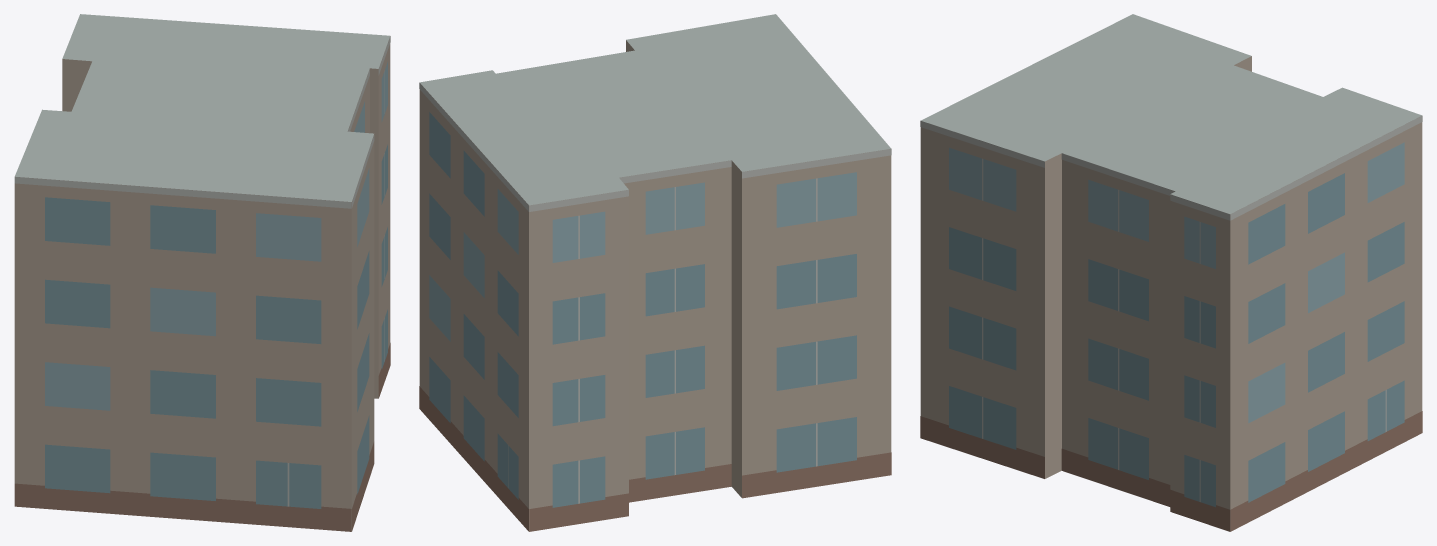
Rendered from survey-upis-32913965.glb.
3 views of the same model, side by side, from view 1: azimuth 30°, elevation 25°; view 2: azimuth 150°, elevation 25°; view 3: azimuth 270°, elevation 25° (orthographic). The views are drawn at different scales.
Visible parts, largest first — view 1: survey-upis-32913965.tmp; view 2: survey-upis-32913965.tmp; view 3: survey-upis-32913965.tmp.
Part boxes in pixels (left/top/right/bottom): survey-upis-32913965.tmp: left=14, top=14, right=390, bottom=531; survey-upis-32913965.tmp: left=419, top=14, right=891, bottom=531; survey-upis-32913965.tmp: left=920, top=14, right=1422, bottom=531.
Bounding box in the file's own units: 16.24 × 12 × 17.19.
